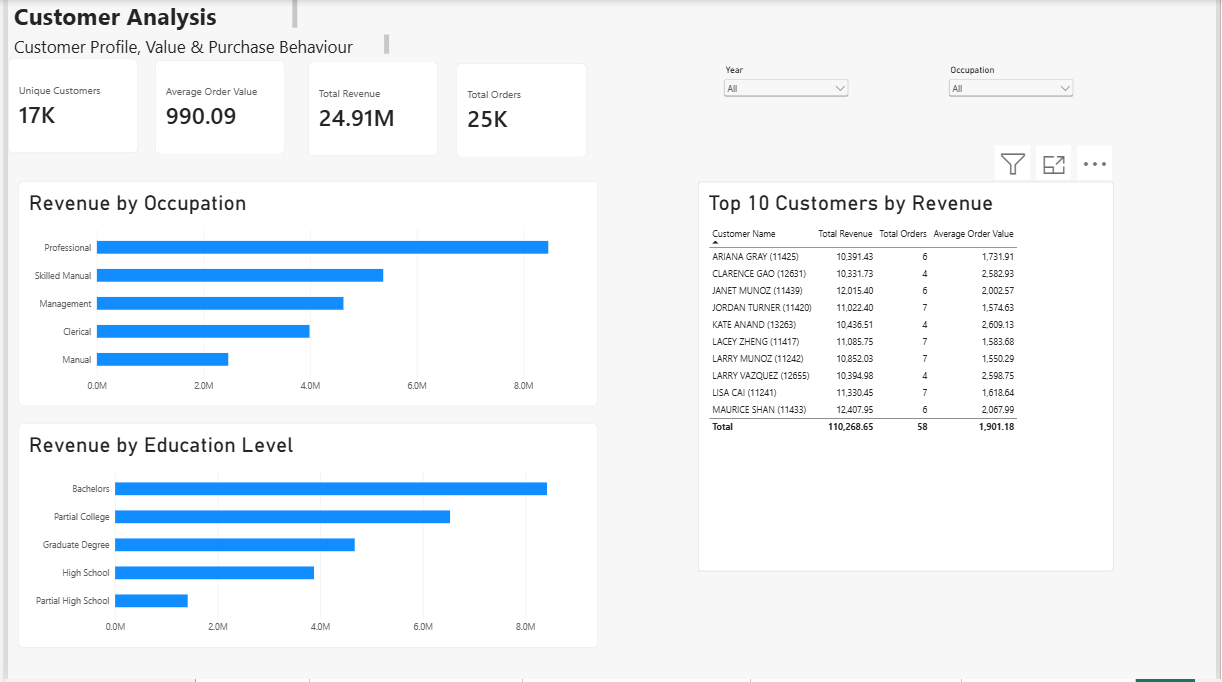

The dashboard page shown, as its layout file describes it:
{"tool":"powerbi","page":{"name":"Customer Analysis","canvas":[1920,1080],"ordinal":3},"visuals":[{"type":"textbox","box":[9.5,0,450.9,54.9],"z":0},{"type":"textbox","box":[9.5,54.9,596.5,40.6],"z":1000},{"type":"cardVisual","fields":{"Data":["_Measures.Unique Customers"]},"box":[0,93.6,207.6,150.3],"z":2000},{"type":"cardVisual","fields":{"Data":["_Measures.Average Order Value"]},"box":[234,96.1,207.6,150.3],"z":3000},{"type":"cardVisual","fields":{"Data":["_Measures.Total Revenue"]},"box":[478,98.5,207.6,150.3],"z":4000},{"type":"cardVisual","fields":{"Data":["_Measures.Total Orders"]},"box":[714.5,101,207.6,150.3],"z":5000},{"type":"slicer","fields":{"Values":["Calendar.Year"]},"box":[1133.9,102,208,150],"z":6000},{"type":"slicer","fields":{"Values":["Customers.Occupation"]},"box":[1491,102,208,150],"z":7000},{"type":"clusteredBarChart","title":"Revenue by Occupation ","fields":{"Y":["_Measures.Total Revenue"],"Category":["Customers.Occupation"]},"box":[17,289.1,921.3,357.2],"z":8000},{"type":"clusteredBarChart","title":"Revenue by Education Level","fields":{"Category":["Customers.EducationLevel"],"Y":["_Measures.Total Revenue"]},"box":[17,671.8,921.3,357.2],"z":9000},{"type":"tableEx","title":"Top 10 Customers by Revenue","fields":{"Values":["Customers.Customer Name","_Measures.Total Revenue","_Measures.Total Orders","_Measures.Average Order Value"]},"box":[1097,289.1,660.5,620.8],"z":10000}]}

Visuals, with their boxes in screenshot pixels (x1, y1, x2, y2), scaled from the page's 1920x1080 canvas onto the 1222x682 screenshot:
textbox: detection(6, 0, 293, 35)
textbox: detection(6, 35, 386, 60)
cardVisual - _Measures.Unique Customers: detection(0, 59, 132, 154)
cardVisual - _Measures.Average Order Value: detection(149, 61, 281, 156)
cardVisual - _Measures.Total Revenue: detection(304, 62, 436, 157)
cardVisual - _Measures.Total Orders: detection(455, 64, 587, 159)
slicer - Calendar.Year: detection(722, 64, 854, 159)
slicer - Customers.Occupation: detection(949, 64, 1081, 159)
"Revenue by Occupation " clusteredBarChart: detection(11, 183, 597, 408)
"Revenue by Education Level" clusteredBarChart: detection(11, 424, 597, 650)
"Top 10 Customers by Revenue" tableEx: detection(698, 183, 1119, 575)
